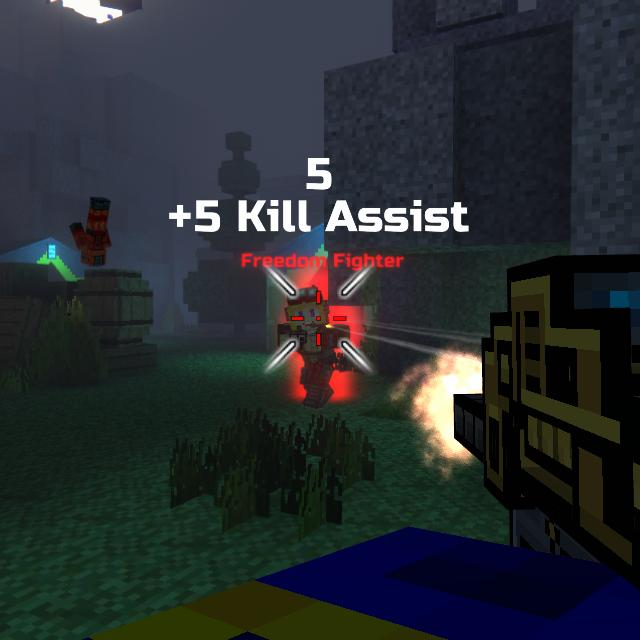Enemy: (278, 290, 353, 407)
